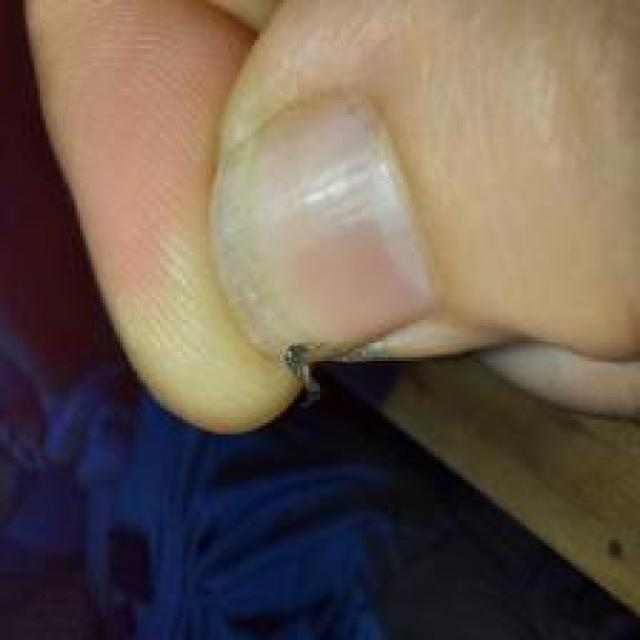Aedes albopictus: (20, 0, 640, 443)
